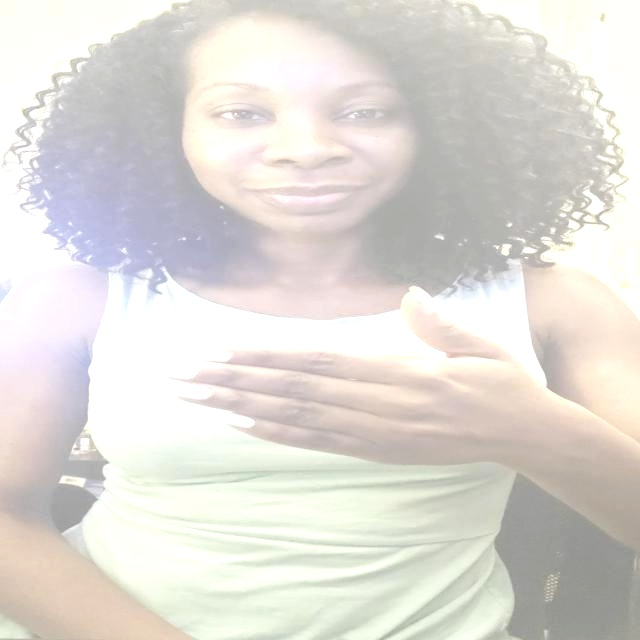Paper: (141, 282, 563, 473)
